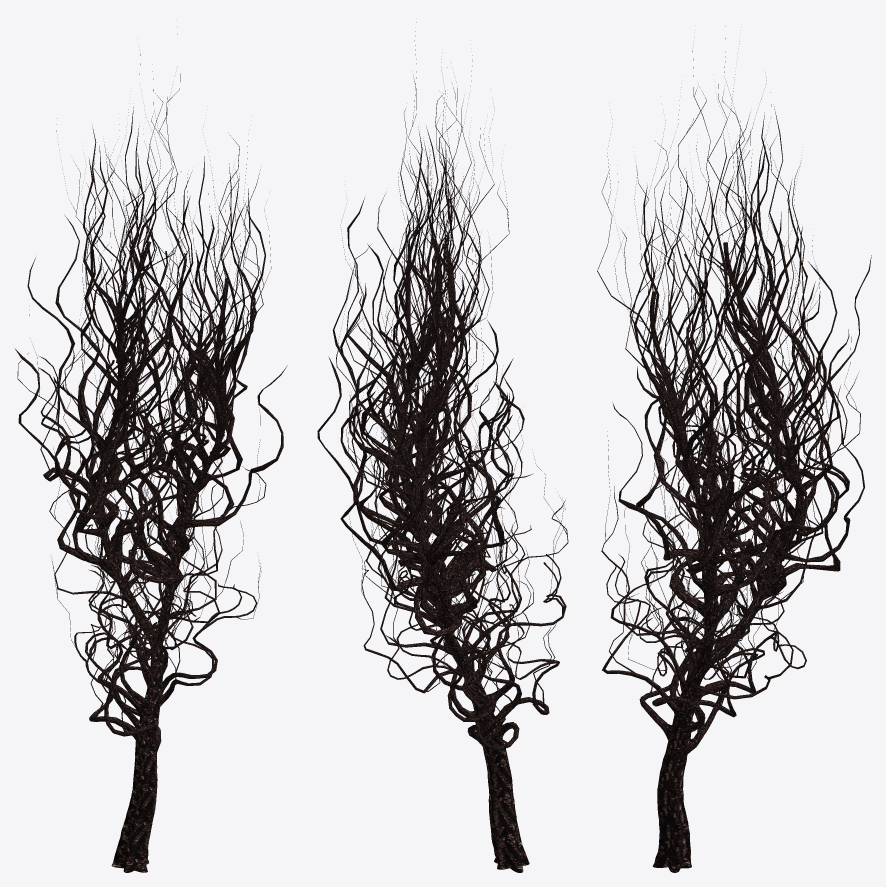
The model's file is tree10.fbx.
The picture shows the model from 3 angles, left to right: view 1: azimuth 30°, elevation 25°; view 2: azimuth 150°, elevation 25°; view 3: azimuth 270°, elevation 25°; orthographic projection. The views are drawn at different scales.
Parts seen in each view (by area): view 1: bark13_0; view 2: bark13_0; view 3: bark13_0.
Boxes of the visible parts, box(x1,y1,x2,y2) form: bark13_0: box(15, 34, 287, 872); bark13_0: box(317, 22, 568, 872); bark13_0: box(597, 26, 871, 872).
Bounding box in the file's own units: 619 × 2281 × 645.
1 material, 1 textured.
